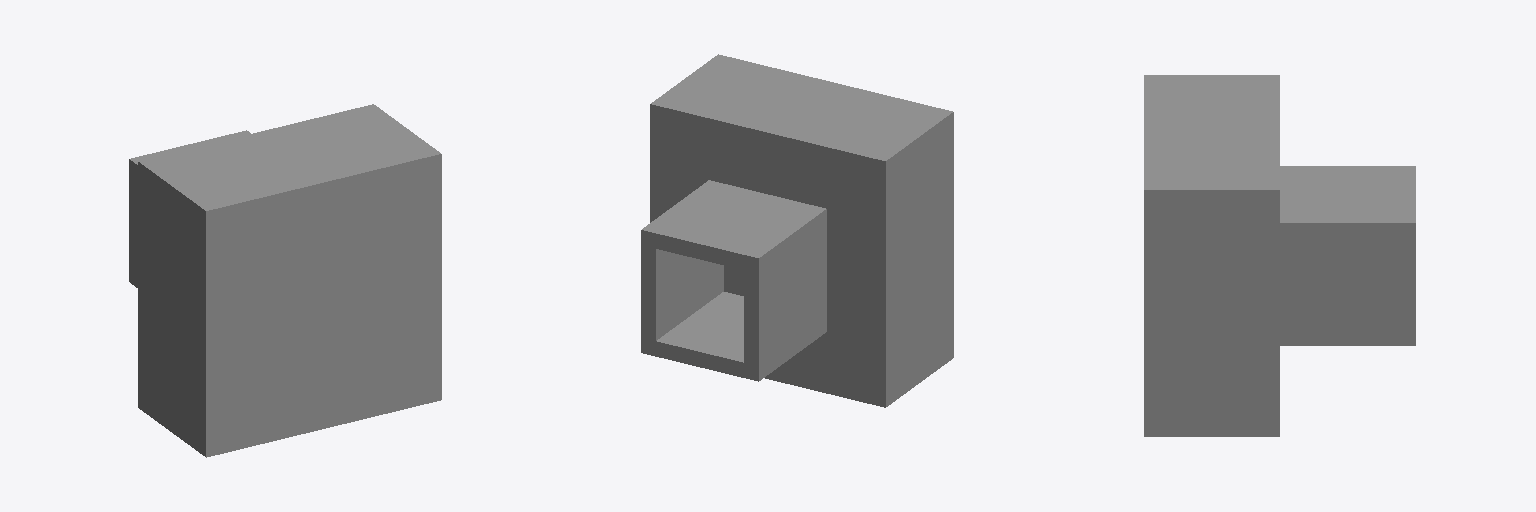
File: puller.obj
3 renders of one model, left to right at view 1: azimuth 30°, elevation 25°; view 2: azimuth 150°, elevation 25°; view 3: azimuth 270°, elevation 25°, orthographic.
Parts seen in each view (by area): view 1: Cube; view 2: Cube; view 3: Cube.
Part boxes in pixels (x1,y1,x2,y2): Cube: (129,104,441,457); Cube: (641,54,953,407); Cube: (1144,75,1415,436).
Bounding box in the file's own units: 1 × 1 × 1.